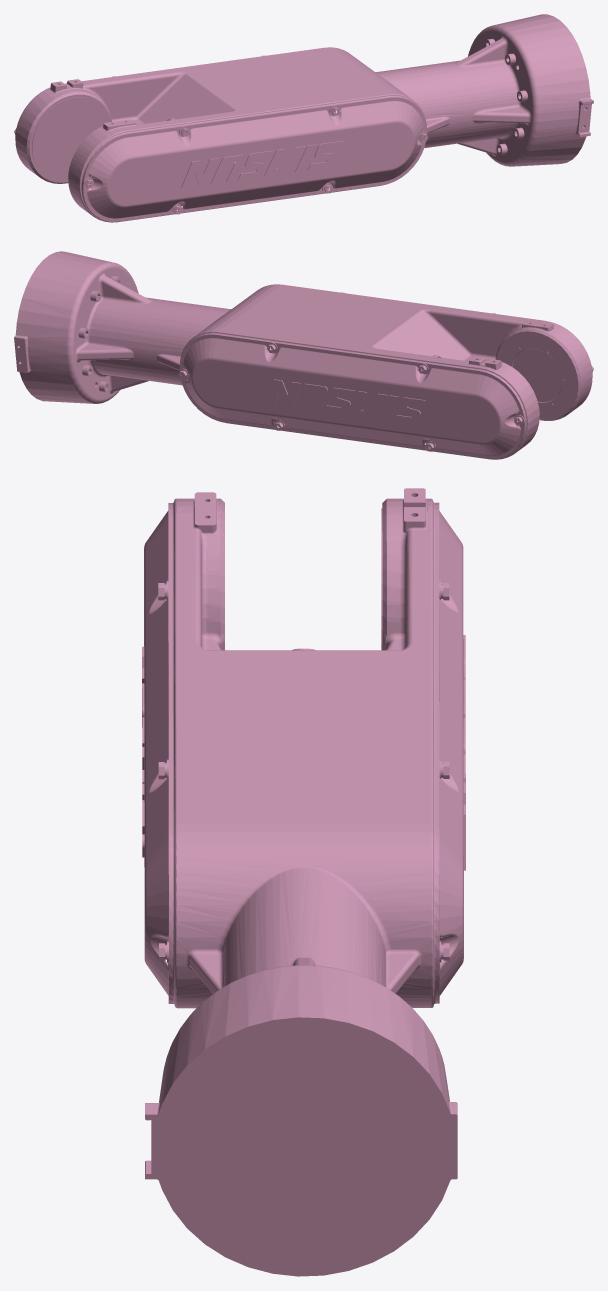
Rendered from case-02_lib00007.glb.
The picture shows the model from 3 angles, top to bottom: view 1: azimuth 30°, elevation 25°; view 2: azimuth 150°, elevation 25°; view 3: azimuth 270°, elevation 25°; orthographic projection. The views are drawn at different scales.
Parts seen in each view (by area): view 1: lib00007; view 2: lib00007; view 3: lib00007.
Boxes of the visible parts, x1,y1,x2,y2 form: lib00007: (14,14,593,222); lib00007: (14,251,593,459); lib00007: (142,488,465,1276).
Bounding box in the file's own units: 78 × 24.34 × 21.37.
